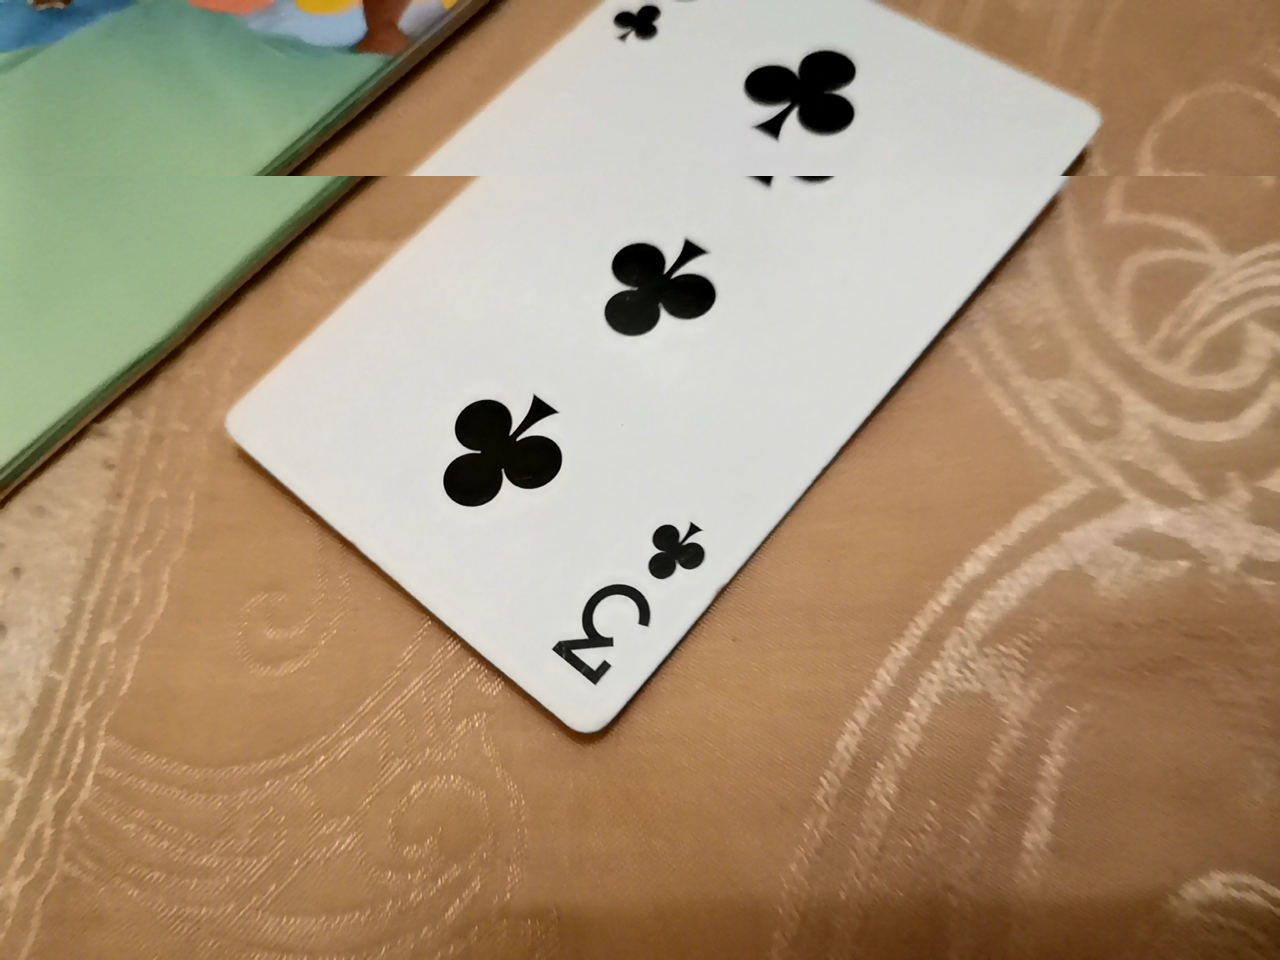mh 3: (163, 1, 1119, 767)
